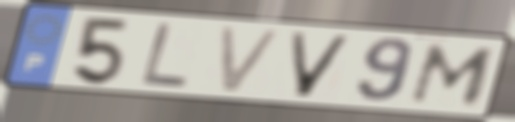5: (68, 15, 132, 88)
9: (353, 35, 416, 107)
L: (136, 20, 192, 92)
M: (405, 41, 501, 107)
V: (215, 24, 288, 96), (285, 29, 358, 100)
